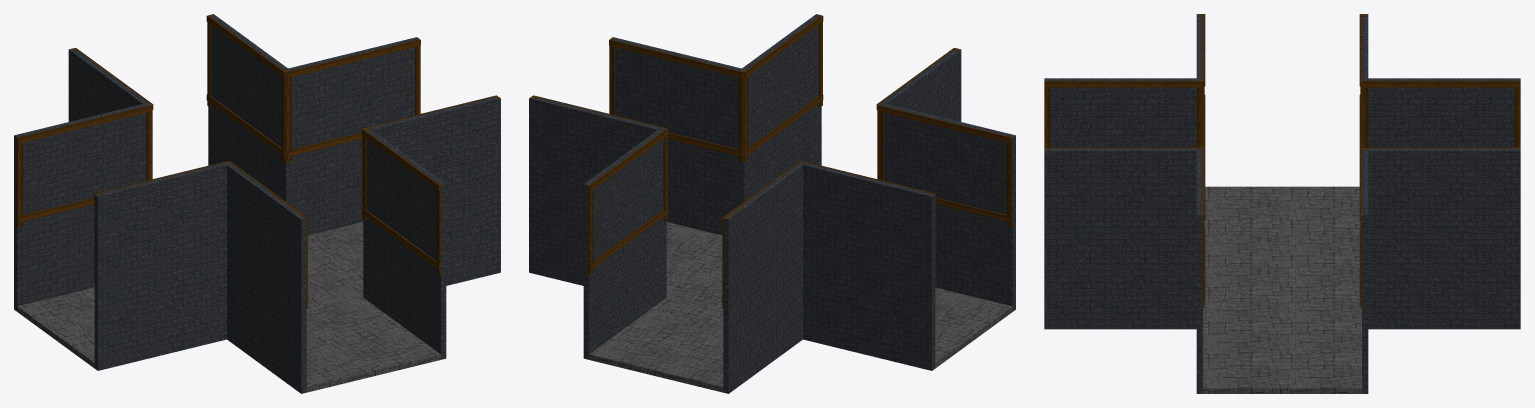
File: Kreuzung Schlucht V1.fbx
3 views of the same model, side by side, from view 1: azimuth 30°, elevation 25°; view 2: azimuth 150°, elevation 25°; view 3: azimuth 270°, elevation 25° (orthographic). The views are drawn at different scales.
Visible parts, largest first — view 1: Kreuzung Schlucht V1.006, Kreuzung Schlucht V1.020, Kreuzung Schlucht V1, Kreuzung Schlucht V1.019, Kreuzung Schlucht V1.005, Kreuzung Schlucht V1.018, Kreuzung Schlucht V1.016, Kreuzung Schlucht V1.017, Kreuzung Schlucht V1.014, Kreuzung Schlucht V1.010, Kreuzung Schlucht V1.013, Kreuzung Schlucht V1.009 (+7 smaller); view 2: Kreuzung Schlucht V1.009, Kreuzung Schlucht V1, Kreuzung Schlucht V1.020, Kreuzung Schlucht V1.018, Kreuzung Schlucht V1.004, Kreuzung Schlucht V1.019, Kreuzung Schlucht V1.015, Kreuzung Schlucht V1.014, Kreuzung Schlucht V1.017, Kreuzung Schlucht V1.011, Kreuzung Schlucht V1.012, Kreuzung Schlucht V1.006 (+7 smaller); view 3: Kreuzung Schlucht V1.014, Kreuzung Schlucht V1.017, Kreuzung Schlucht V1.010, Kreuzung Schlucht V1.011, Kreuzung Schlucht V1.003, Kreuzung Schlucht V1.015, Kreuzung Schlucht V1.016, Kreuzung Schlucht V1.002, Kreuzung Schlucht V1.001, Kreuzung Schlucht V1.019, Kreuzung Schlucht V1.018, Kreuzung Schlucht V1 (+3 smaller).
Boxes of the visible parts, x1,y1,x2,y2 form: Kreuzung Schlucht V1.006: [94, 249, 226, 370]; Kreuzung Schlucht V1.020: [14, 104, 152, 227]; Kreuzung Schlucht V1: [94, 161, 229, 286]; Kreuzung Schlucht V1.019: [283, 37, 420, 162]; Kreuzung Schlucht V1.005: [306, 297, 440, 392]; Kreuzung Schlucht V1.018: [362, 95, 500, 195]; Kreuzung Schlucht V1.016: [225, 161, 308, 309]; Kreuzung Schlucht V1.017: [361, 127, 446, 275]; Kreuzung Schlucht V1.014: [206, 14, 289, 162]; Kreuzung Schlucht V1.010: [363, 217, 446, 359]; Kreuzung Schlucht V1.013: [227, 255, 306, 393]; Kreuzung Schlucht V1.009: [14, 209, 94, 311]; Kreuzung Schlucht V1.009: [803, 249, 935, 370]; Kreuzung Schlucht V1: [877, 102, 1015, 227]; Kreuzung Schlucht V1.020: [801, 161, 935, 283]; Kreuzung Schlucht V1.018: [609, 37, 746, 162]; Kreuzung Schlucht V1.004: [589, 297, 723, 392]; Kreuzung Schlucht V1.019: [529, 95, 667, 195]; Kreuzung Schlucht V1.015: [721, 161, 805, 309]; Kreuzung Schlucht V1.014: [583, 127, 668, 275]; Kreuzung Schlucht V1.017: [740, 14, 823, 162]; Kreuzung Schlucht V1.011: [583, 217, 666, 359]; Kreuzung Schlucht V1.012: [723, 255, 802, 393]; Kreuzung Schlucht V1.006: [935, 209, 1015, 311]; Kreuzung Schlucht V1.014: [1362, 147, 1520, 242]; Kreuzung Schlucht V1.017: [1044, 147, 1202, 242]; Kreuzung Schlucht V1.010: [1044, 243, 1196, 329]; Kreuzung Schlucht V1.011: [1368, 243, 1520, 329]; Kreuzung Schlucht V1.003: [1203, 321, 1361, 393]; Kreuzung Schlucht V1.015: [1362, 78, 1520, 147]; Kreuzung Schlucht V1.016: [1044, 78, 1202, 147]; Kreuzung Schlucht V1.002: [1204, 186, 1360, 253]; Kreuzung Schlucht V1.001: [1203, 254, 1361, 320]; Kreuzung Schlucht V1.019: [1359, 148, 1368, 307]; Kreuzung Schlucht V1.018: [1196, 148, 1205, 307]; Kreuzung Schlucht V1: [1196, 14, 1205, 148].
Size of the model in its own units: 1500 by 1500 by 620.
Materials: 1 (1 with a texture image).
